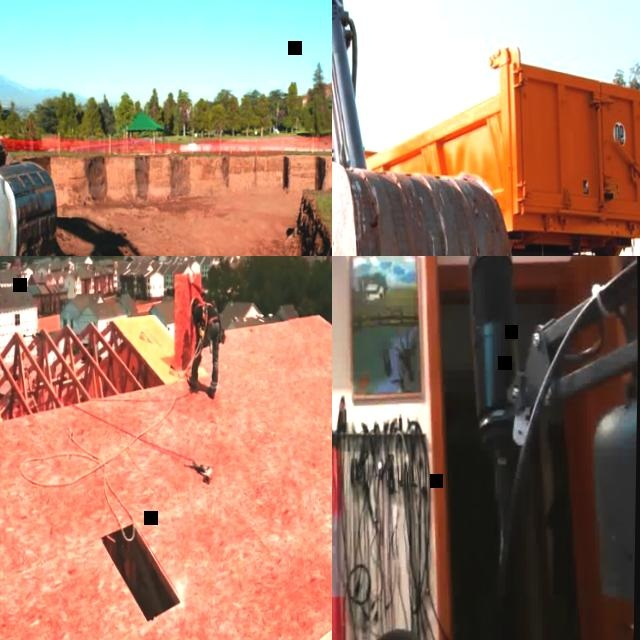Hardhat: (190, 296, 196, 314)
NO-Safety Vest: (197, 301, 219, 326)
Person: (185, 296, 222, 398)
Safety Cone: (332, 436, 379, 640)
machinery: (332, 38, 640, 256), (332, 0, 553, 256), (0, 17, 65, 256)
